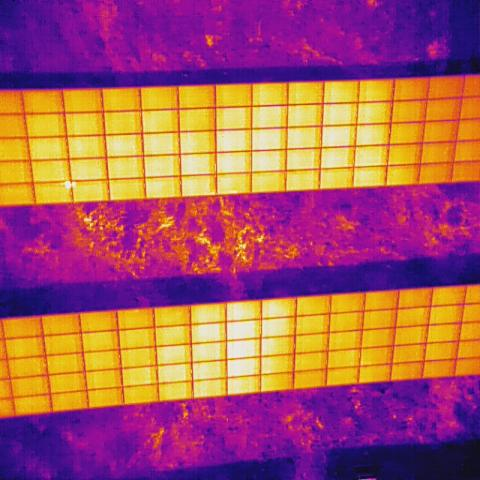fault: (62, 179, 79, 191)
